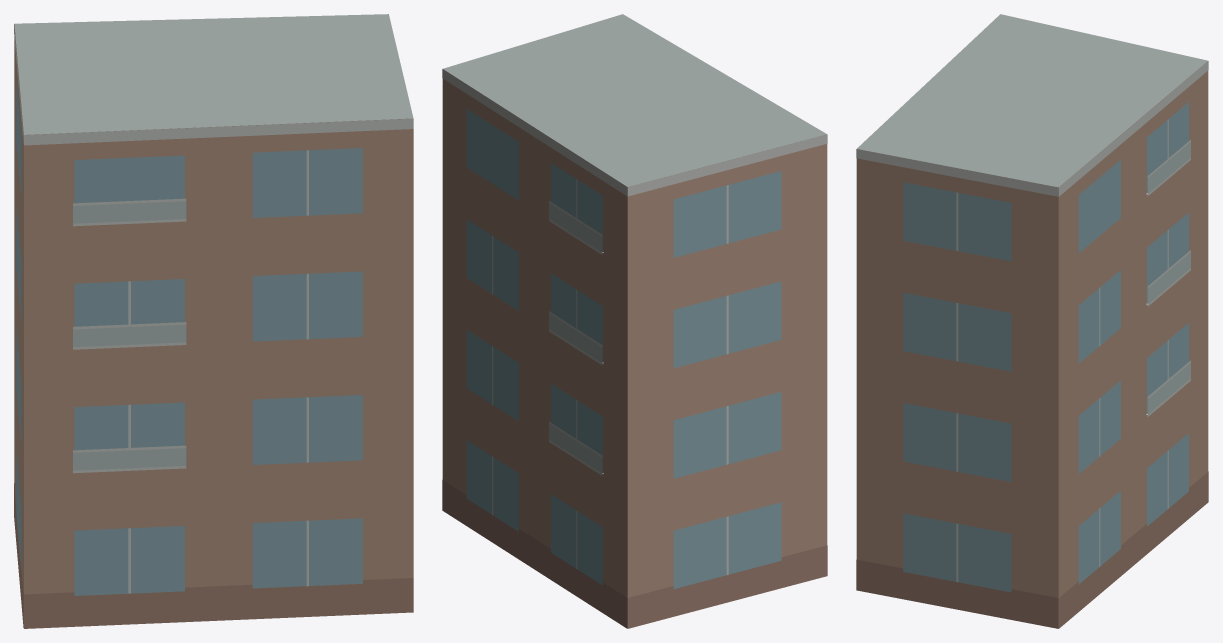
The model's file is survey-upis-32732235.glb.
3 views of the same model, side by side, from view 1: azimuth 30°, elevation 25°; view 2: azimuth 150°, elevation 25°; view 3: azimuth 270°, elevation 25° (orthographic). The views are drawn at different scales.
Visible parts, largest first — view 1: survey-upis-32732235.tmp; view 2: survey-upis-32732235.tmp; view 3: survey-upis-32732235.tmp.
Boxes of the visible parts, x1=… form: survey-upis-32732235.tmp: x1=14, y1=14, x2=413, y2=628; survey-upis-32732235.tmp: x1=442, y1=14, x2=827, y2=628; survey-upis-32732235.tmp: x1=856, y1=14, x2=1208, y2=628.
Size of the model in its own units: 9.61 by 11.4 by 8.25.
